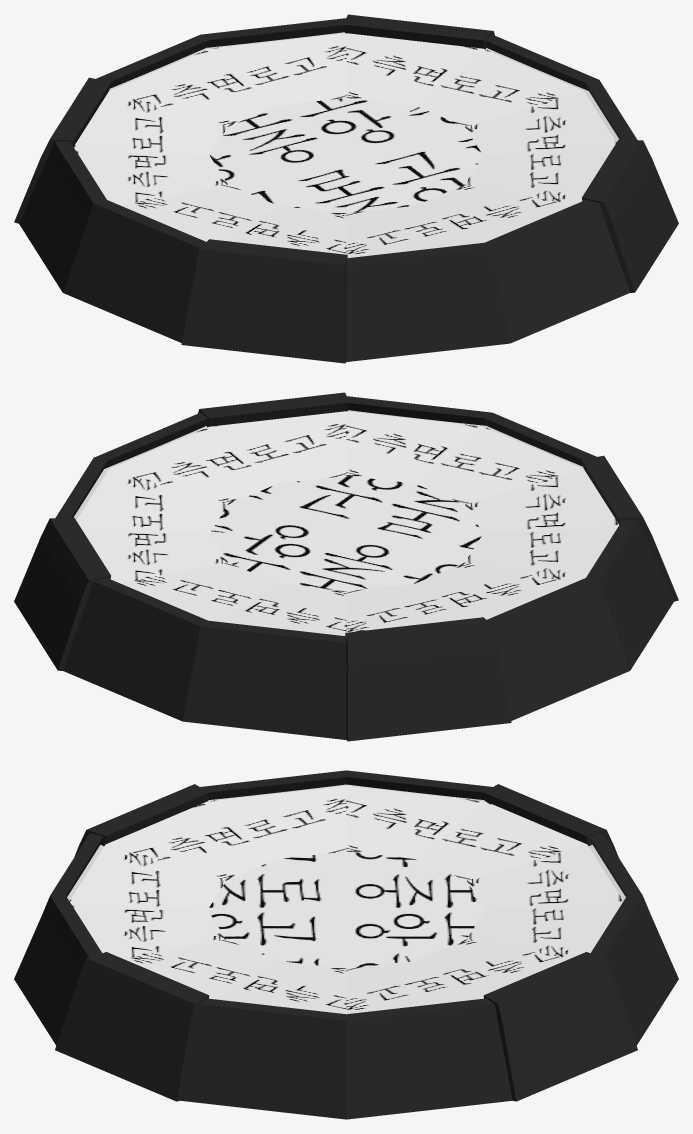
The model's file is custom_arena.glb.
3 renders of one model, top to bottom at view 1: azimuth 30°, elevation 25°; view 2: azimuth 150°, elevation 25°; view 3: azimuth 270°, elevation 25°, orthographic.
Parts seen in each view (by area): view 1: Logo, Arena_Wall, Arena_Floor; view 2: Logo, Arena_Wall, Arena_Floor; view 3: Logo, Arena_Wall, Arena_Floor.
Boxes of the visible parts, x1,y1,x2,y2 form: Logo: [74, 33, 616, 257]; Arena_Wall: [14, 14, 678, 363]; Arena_Floor: [109, 32, 618, 142]; Logo: [76, 411, 618, 635]; Arena_Wall: [14, 392, 678, 741]; Arena_Floor: [74, 410, 583, 520]; Logo: [69, 785, 623, 1014]; Arena_Wall: [14, 770, 678, 1119]; Arena_Floor: [67, 784, 625, 900].
Bounding box in the file's own units: 28.89 × 4.08 × 28.89.
9 materials, 7 textured.
